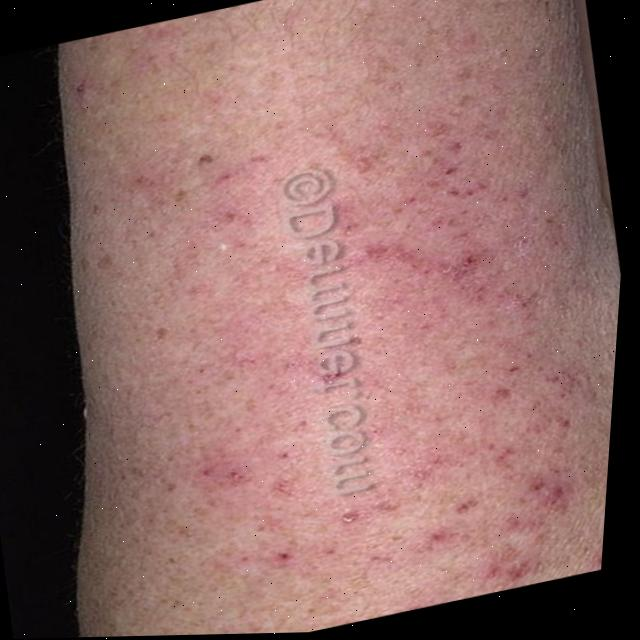Eczema: (93, 85, 618, 637)
